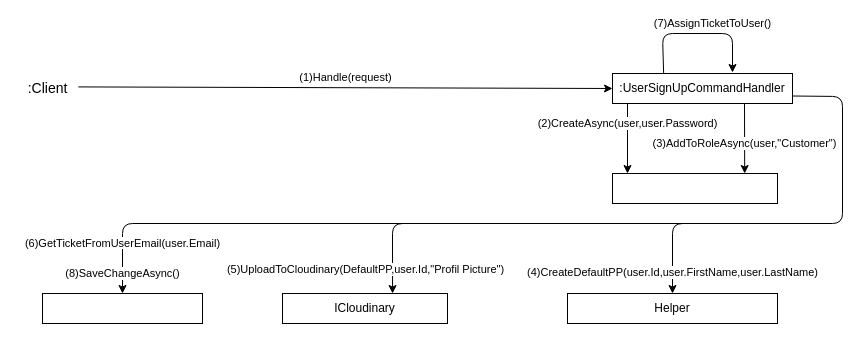
Image size: 868x341. Some labels were removed from this diagram. The shapes that lost their labels are listed below. From the top down, each one's centre as x and y in pixels, then its label:
point (695, 188): IIdentityService
point (122, 308): IApplicationDbContext
